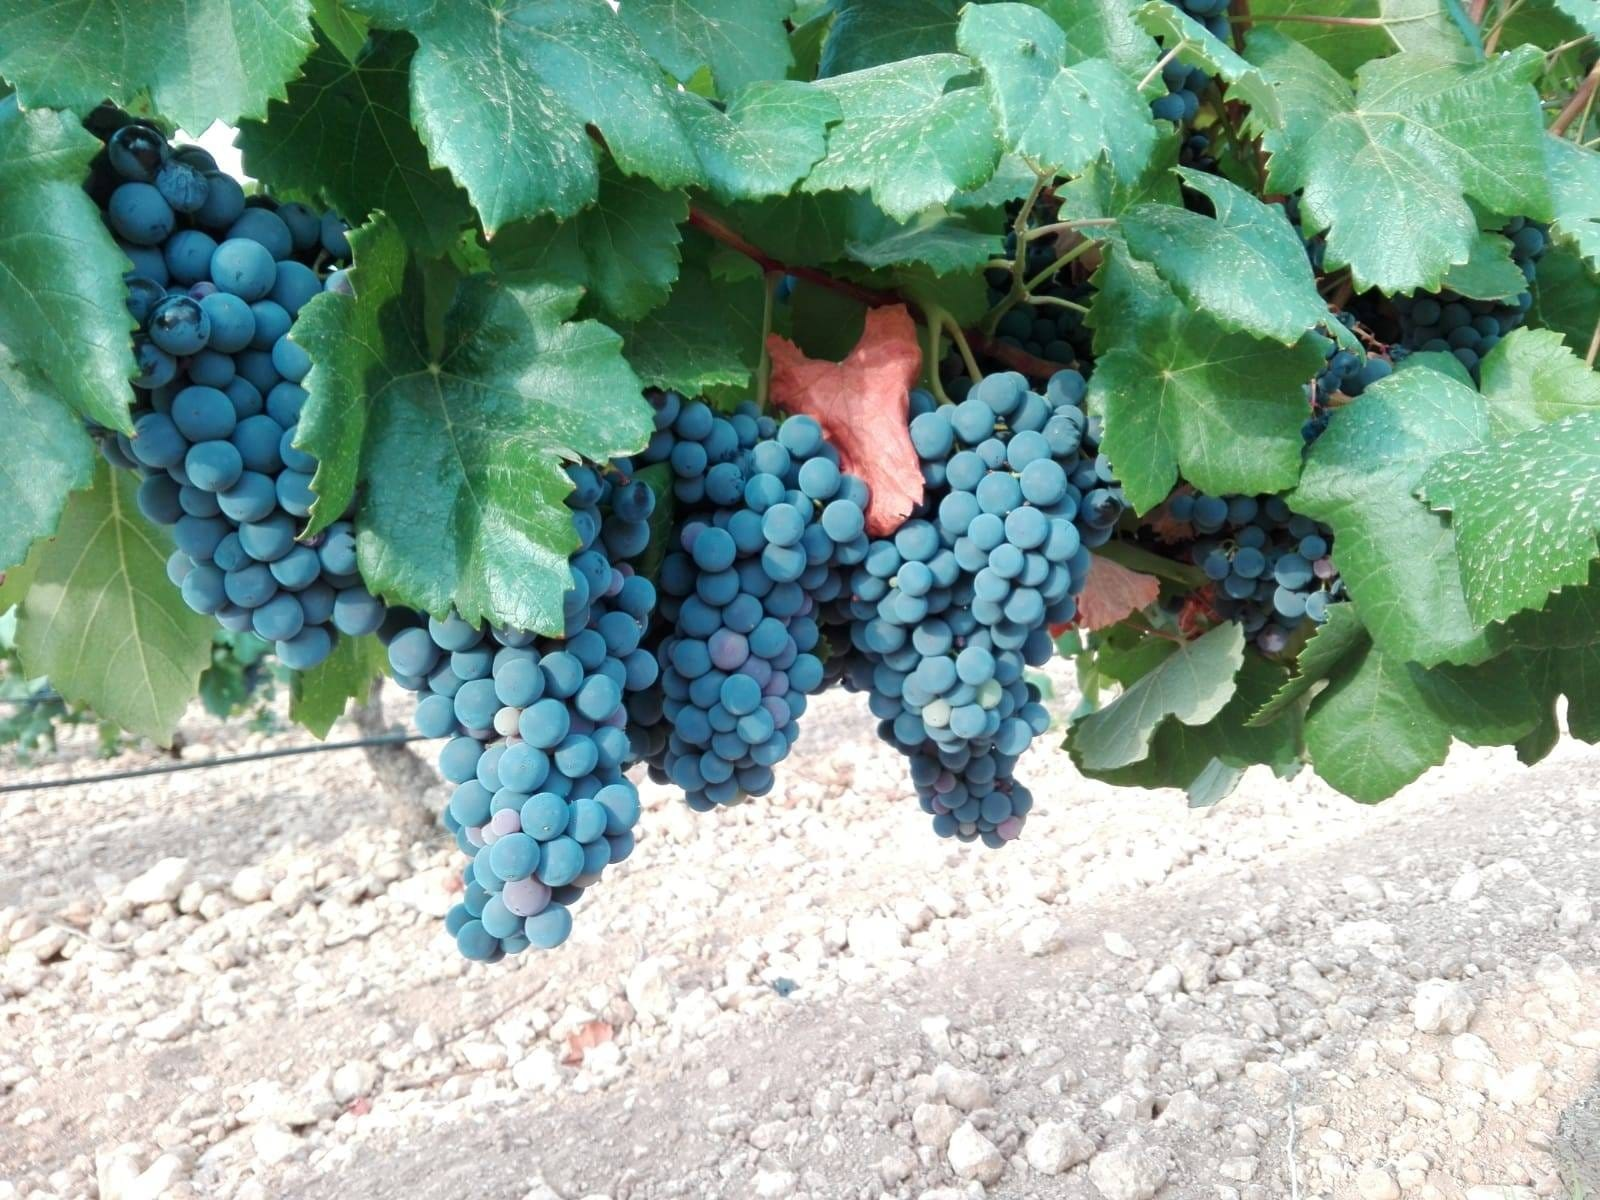Black grapes: (76, 113, 374, 672), (402, 388, 617, 974), (620, 366, 826, 818), (866, 347, 1073, 779), (1186, 466, 1346, 657)
